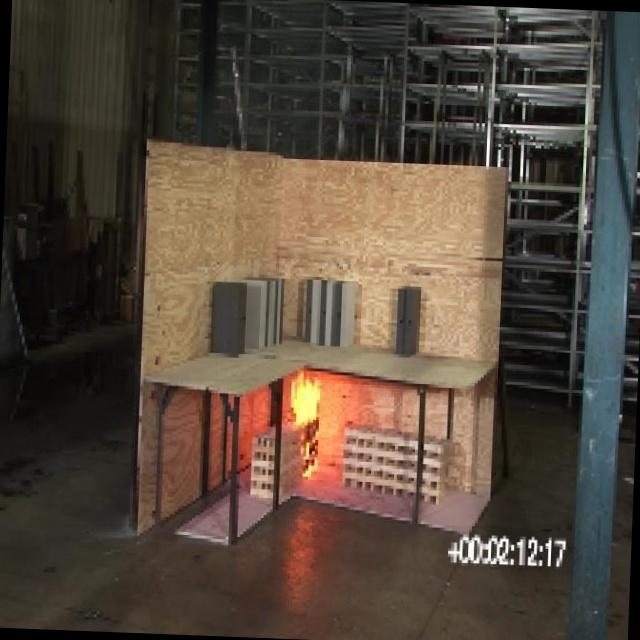fire: (278, 360, 330, 472)
